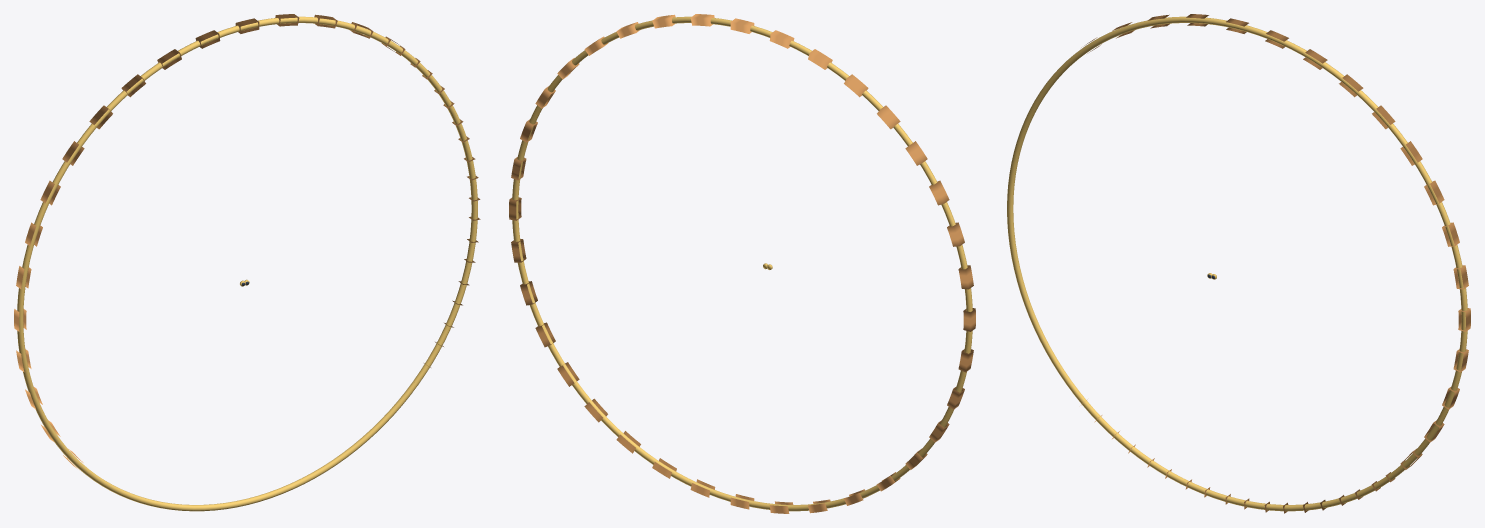
The model's file is 32_L87_SegmentedRimMotorStator.glb.
3 renders of one model, left to right at view 1: azimuth 30°, elevation 25°; view 2: azimuth 150°, elevation 25°; view 3: azimuth 330°, elevation 25°, orthographic.
Parts seen in each view (by area): view 1: L87_SegmentedRimMotorStator_Part_0002, L87_SegmentedRimMotorStator_Part_0000, L87_SegmentedRimMotorStator_Part_0001; view 2: L87_SegmentedRimMotorStator_Part_0002, L87_SegmentedRimMotorStator_Part_0000, L87_SegmentedRimMotorStator_Part_0001; view 3: L87_SegmentedRimMotorStator_Part_0002, L87_SegmentedRimMotorStator_Part_0000, L87_SegmentedRimMotorStator_Part_0001.
Part boxes in pixels (x1=…): L87_SegmentedRimMotorStator_Part_0002: x1=17, y1=16, x2=477, y2=511; L87_SegmentedRimMotorStator_Part_0000: x1=16, y1=14, x2=480, y2=288; L87_SegmentedRimMotorStator_Part_0001: x1=14, y1=239, x2=478, y2=468; L87_SegmentedRimMotorStator_Part_0002: x1=512, y1=16, x2=972, y2=511; L87_SegmentedRimMotorStator_Part_0000: x1=509, y1=14, x2=973, y2=289; L87_SegmentedRimMotorStator_Part_0001: x1=511, y1=239, x2=975, y2=513; L87_SegmentedRimMotorStator_Part_0002: x1=1007, y1=16, x2=1467, y2=511; L87_SegmentedRimMotorStator_Part_0000: x1=1081, y1=14, x2=1470, y2=331; L87_SegmentedRimMotorStator_Part_0001: x1=1081, y1=349, x2=1468, y2=513.
Bounding box in the file's own units: 12.09 × 12.09 × 0.667.
